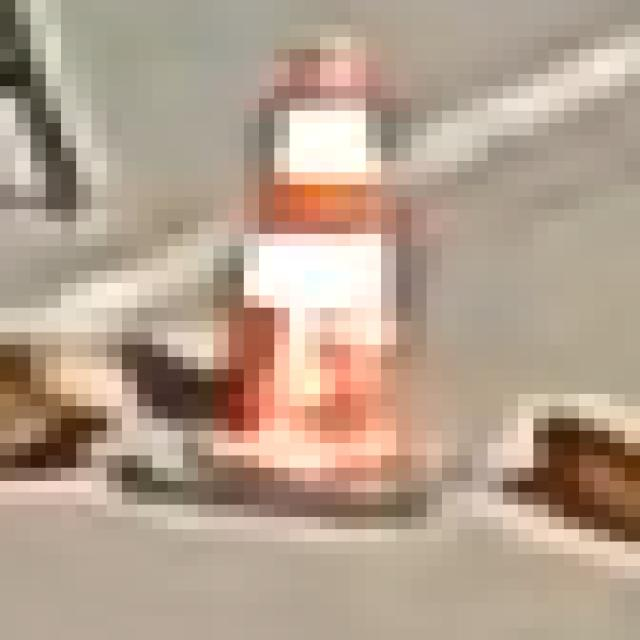small_cone: (154, 20, 478, 540)
